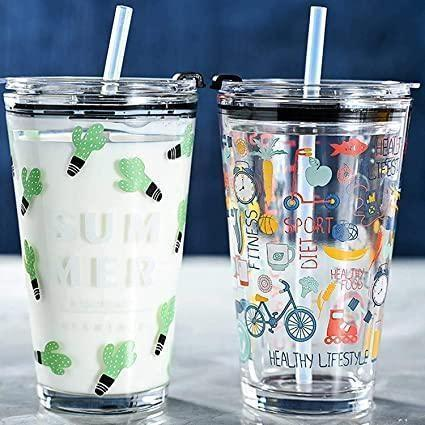cup-disposable: (1, 67, 205, 424), (213, 78, 414, 424)
